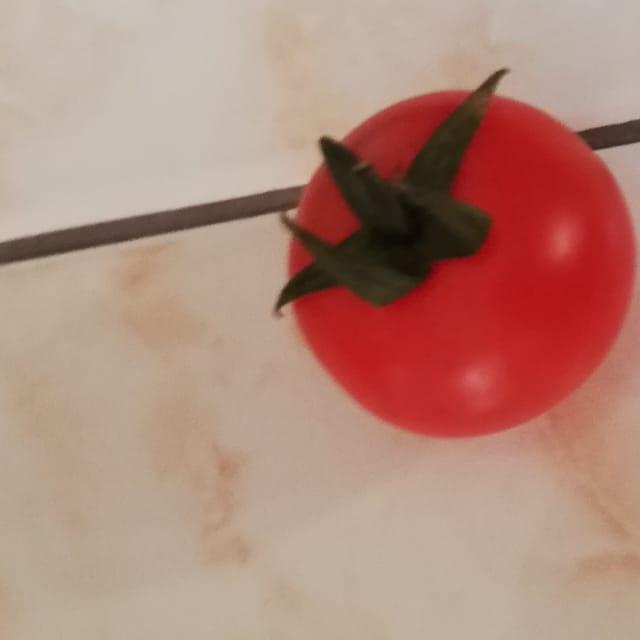tomato: (261, 59, 640, 449)
